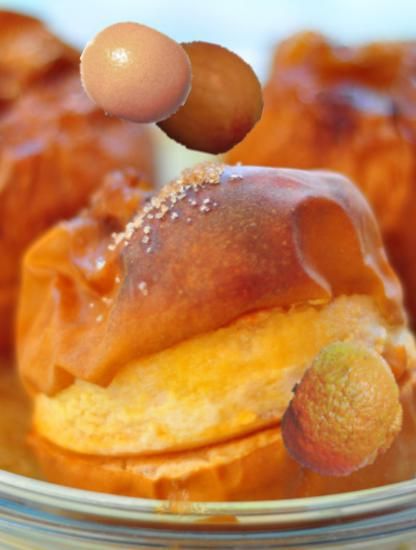Apricot: (141, 36, 264, 159)
Grapefruit: (78, 18, 192, 132)
Mandarine: (275, 342, 416, 483)
